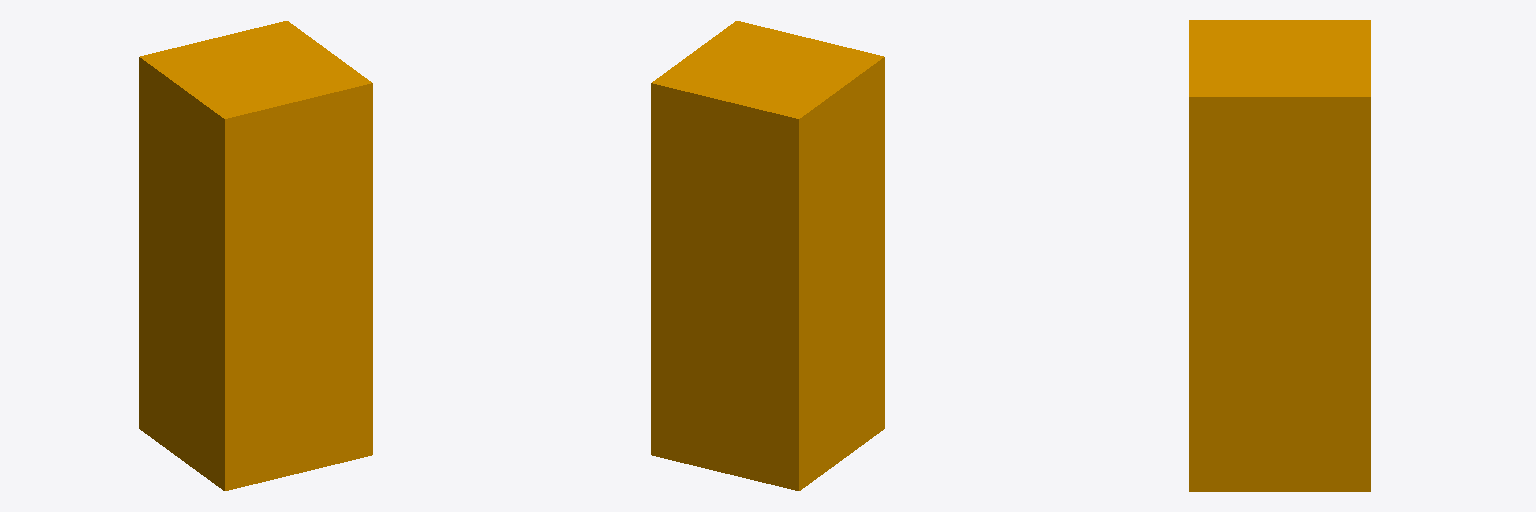
URDF robot description (simple_table):
<?xml version="1.0"?> 
<robot name="simple_table">
  <link name="my_table">
    <inertial>
      <origin xyz="0 0 0" />
      <mass value="1.0" />
      <inertia  ixx="1.0" ixy="0.0"  ixz="0.0"  iyy="100.0"  iyz="0.0"  izz="1.0" />
    </inertial>
    <visual>
      <origin xyz="0 0 0"/>
      <geometry>
        <box size="0.5 0.5 1.2" />
      </geometry>
    </visual>
    <collision>
      <origin xyz="0 0 0"/>
      <geometry>
        <box size="0.5 0.5 1.2" />
      </geometry>
    </collision>
  </link>
</robot>

--- Facts derived from the render (not from the file) ---
The picture shows the robot from 3 angles, left to right: view 1: azimuth 30°, elevation 25°; view 2: azimuth 150°, elevation 25°; view 3: azimuth 270°, elevation 25°; orthographic projection.
Model simple_table with 1 links and 0 joints (none), rooted at my_table, posed all joints at 0.
Visible links, largest first — view 1: my_table; view 2: my_table; view 3: my_table.
Link boxes in pixels (<box>): my_table: <box>139,21,372,490</box>; my_table: <box>651,21,884,490</box>; my_table: <box>1189,20,1370,491</box>.
Bounding box of the posed robot: 0.5 × 0.5 × 1.2 m (x, y, z).
Geometry: primitives only (box / cylinder / sphere), no mesh files.